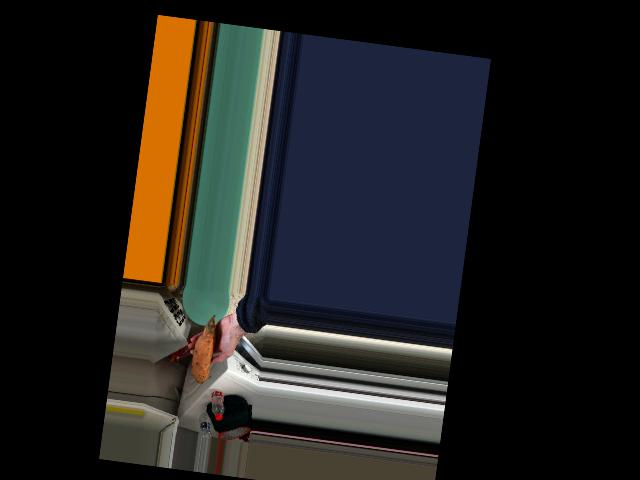sweet_potato: (189, 315, 219, 385)
